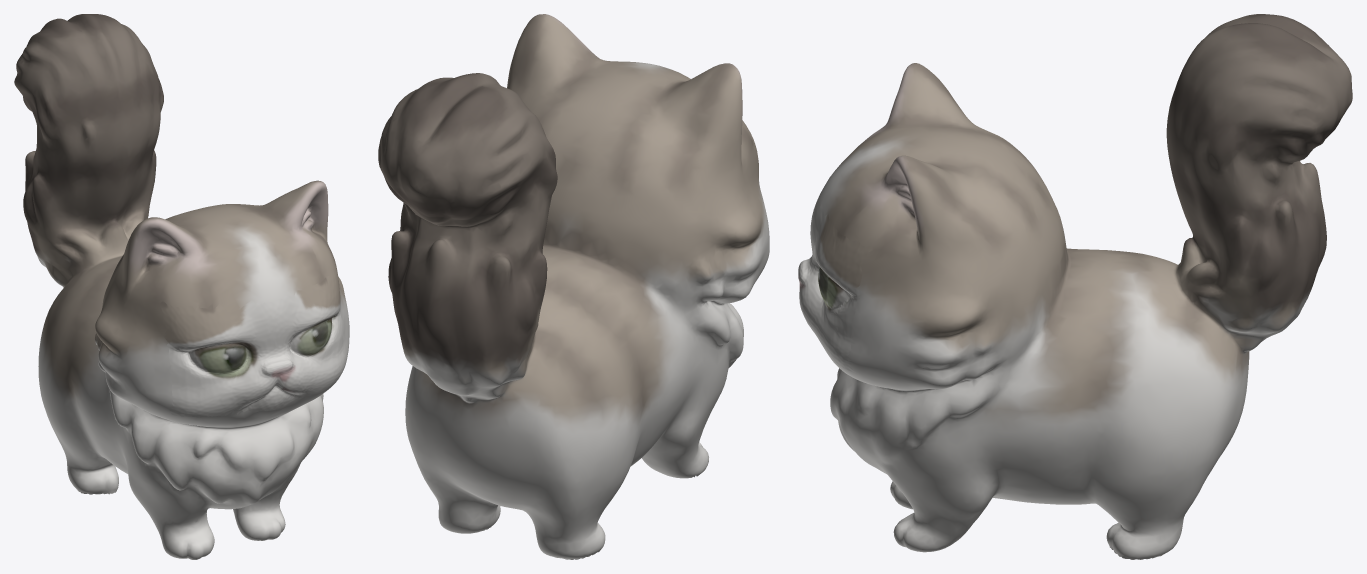
The model's file is felipe_color.glb.
3 views of the same model, side by side, from view 1: azimuth 30°, elevation 25°; view 2: azimuth 150°, elevation 25°; view 3: azimuth 270°, elevation 25° (orthographic). The views are drawn at different scales.
Parts seen in each view (by area): view 1: geometry_0; view 2: geometry_0; view 3: geometry_0.
Boxes of the visible parts, bbox=[...] form: geometry_0: bbox=[14, 14, 349, 559]; geometry_0: bbox=[378, 14, 769, 559]; geometry_0: bbox=[798, 14, 1352, 559].
Bounding box in the file's own units: 1.16 × 1.98 × 1.98.
